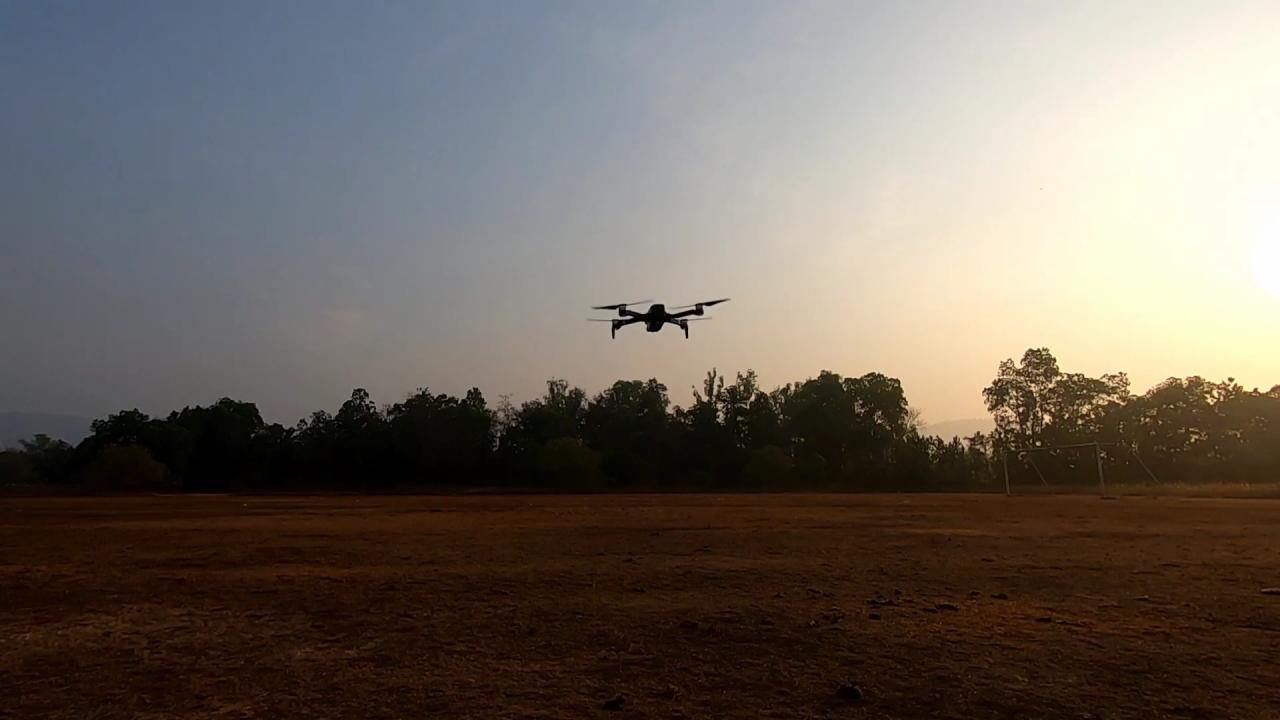Drone: (583, 288, 740, 346)
